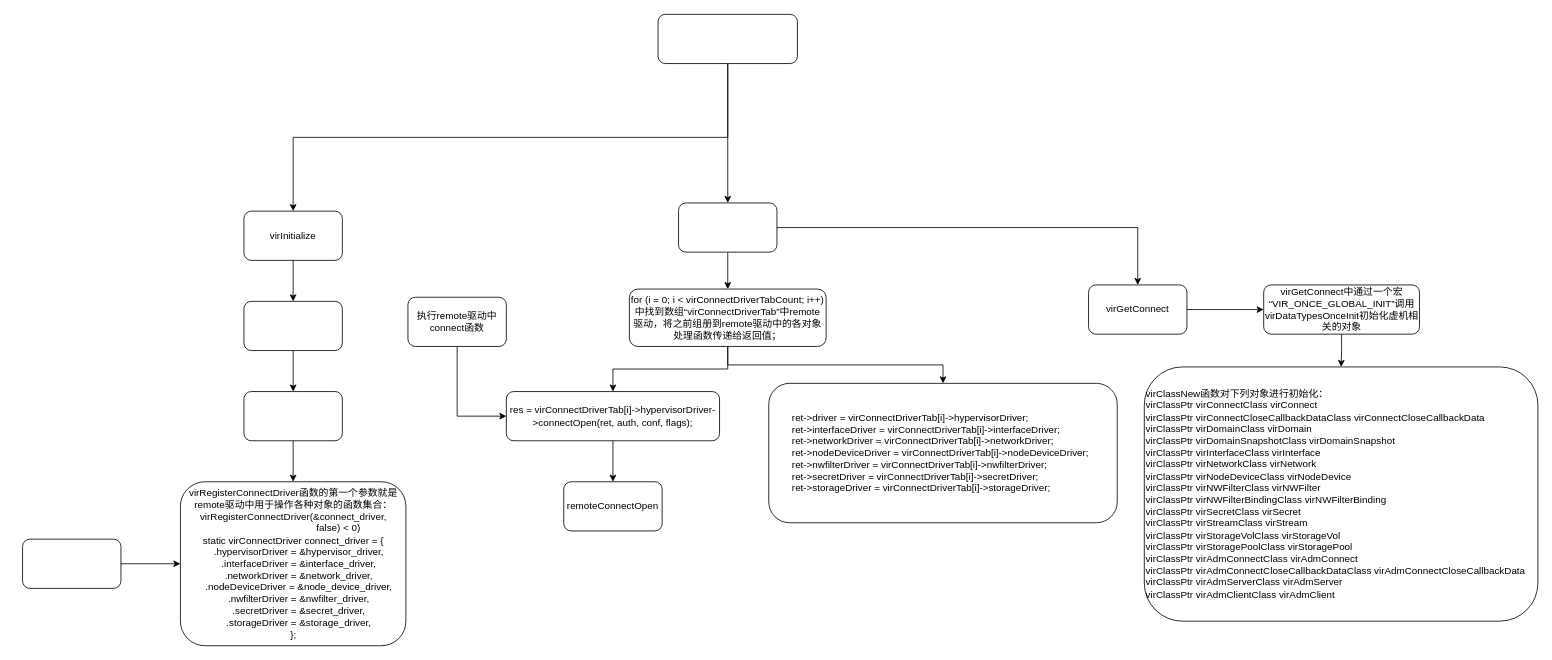
Image size: 1552x660. Some labels were removed from this diagram. The box of each missing label's shape, as (x1, y1, x2, y2) in pixels:
remoteRegister: (243, 391, 342, 441)
virConnectOpenInternal: (678, 202, 777, 252)
virConnectOpenReadOnly: (657, 14, 797, 64)
virGlobalInit: (243, 301, 342, 351)
将不同的驱动加入到指针数组“virConnectDriverTab”中: (22, 538, 121, 588)
